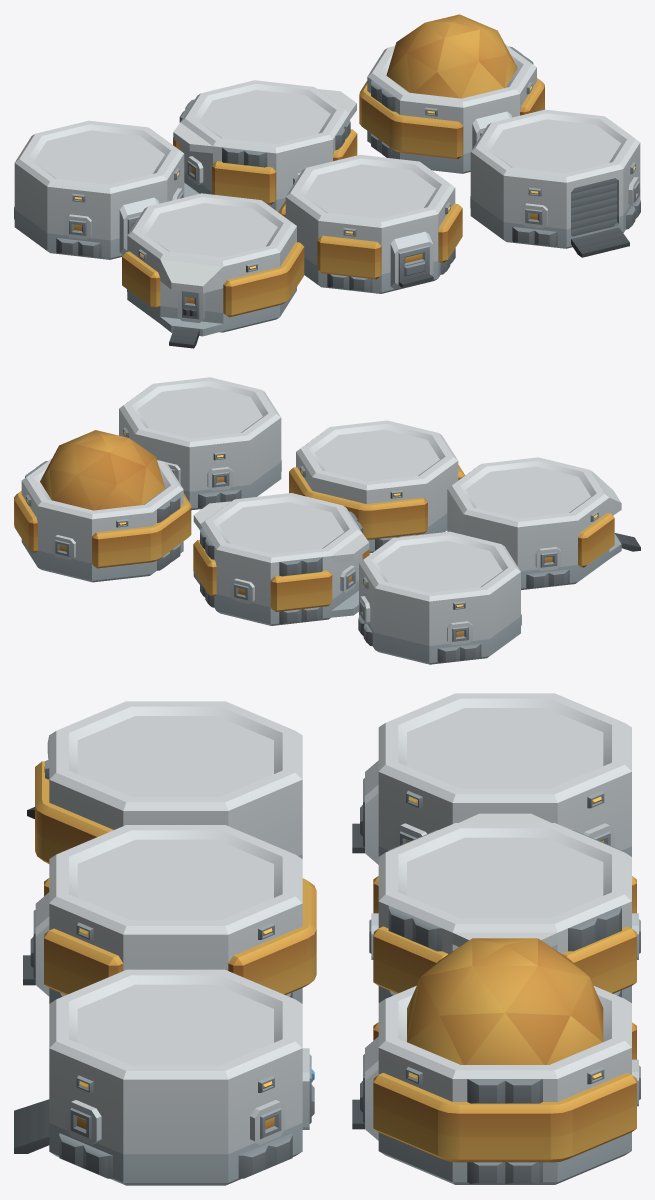
The model's file is Space Base Modules.glb.
3 views of the same model, one above another, from view 1: azimuth 30°, elevation 25°; view 2: azimuth 150°, elevation 25°; view 3: azimuth 270°, elevation 25° (orthographic). The views are drawn at different scales.
Visible parts, largest first — view 1: basemodule_A, basemodule_B, basemodule_E, basemodule_garage, basemodule_C, basemodule_D, basemodule_garage_door; view 2: basemodule_E, basemodule_D, basemodule_C, basemodule_A, basemodule_garage, basemodule_B; view 3: basemodule_E, basemodule_garage, basemodule_B, basemodule_D, basemodule_C, basemodule_A.
Part boxes in pixels (x1,y1,x2,y2): basemodule_A: (122, 193, 304, 348); basemodule_B: (278, 154, 462, 293); basemodule_E: (359, 14, 544, 173); basemodule_garage: (470, 109, 640, 257); basemodule_C: (14, 120, 184, 259); basemodule_D: (173, 80, 357, 211); basemodule_garage_door: (571, 178, 616, 236); basemodule_E: (14, 430, 191, 582); basemodule_D: (193, 493, 369, 625); basemodule_C: (358, 531, 521, 664); basemodule_A: (447, 457, 640, 589); basemodule_garage: (119, 377, 281, 510); basemodule_B: (289, 420, 465, 553); basemodule_E: (352, 938, 640, 1184); basemodule_garage: (14, 969, 314, 1185); basemodule_B: (23, 825, 316, 1003); basemodule_D: (369, 813, 640, 1002); basemodule_C: (352, 693, 631, 864); basemodule_A: (27, 701, 302, 863).
Size of the model in its own units: 7.29 by 1.65 by 4.95.
1 material, 1 textured.
